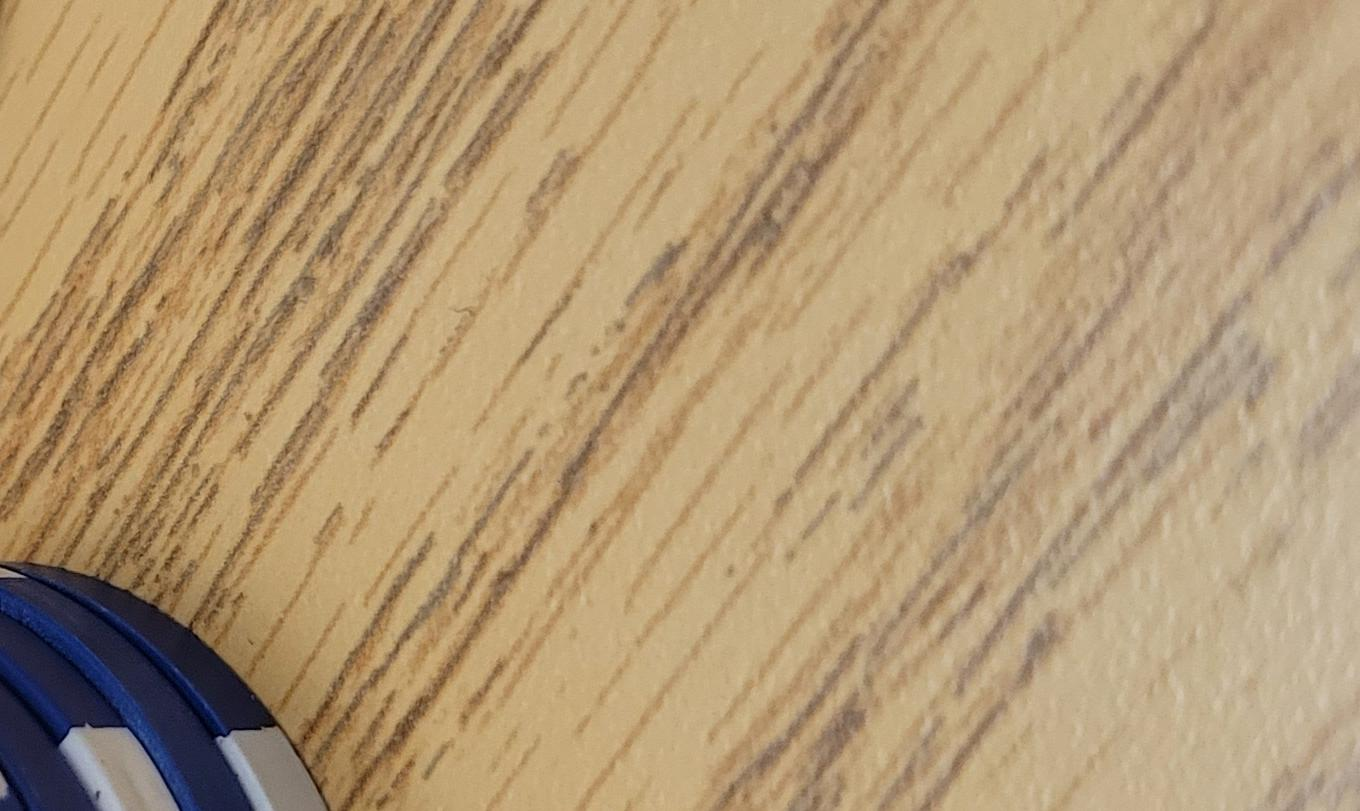Chip: (1, 303, 467, 811)
